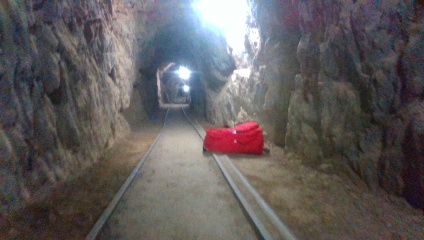backpack: (203, 120, 264, 156)
